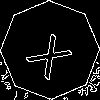X: (25, 25, 81, 81)
